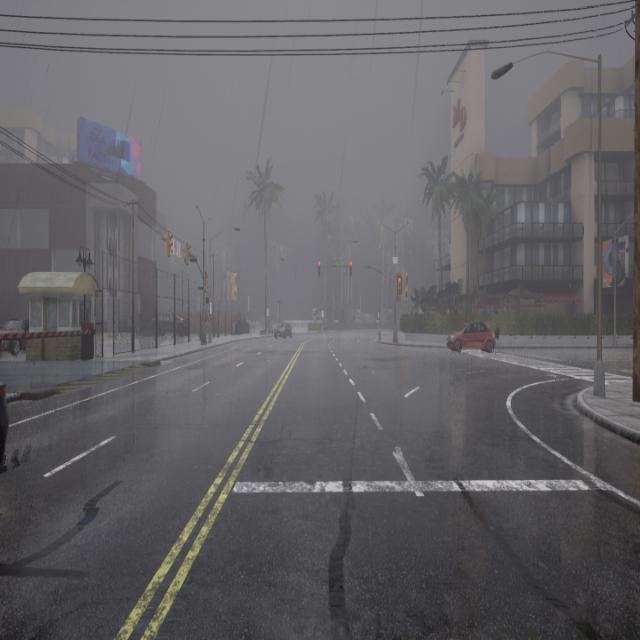6: (398, 278, 401, 282), (350, 261, 352, 266), (318, 261, 320, 266)
9: (167, 232, 173, 258), (186, 242, 191, 265), (397, 276, 402, 294), (205, 271, 209, 292), (317, 260, 321, 278), (349, 258, 352, 278)
bien_hieu_lenh: (169, 250, 172, 256), (206, 287, 208, 291), (188, 260, 190, 264)
